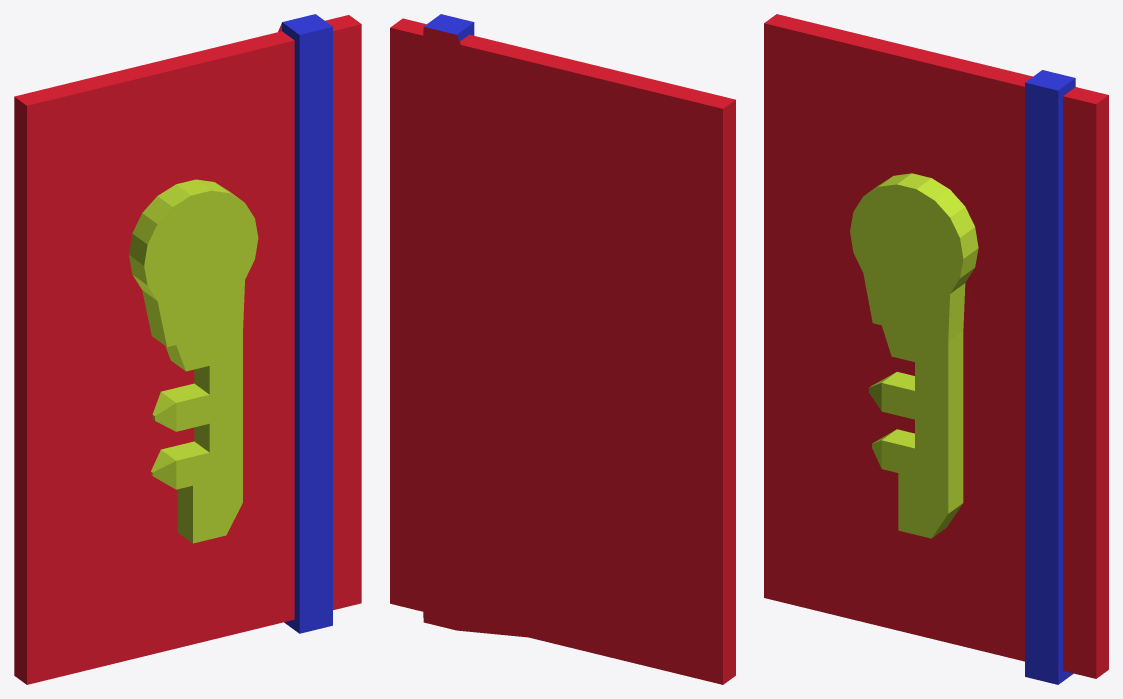
Rendered from Chave.fbx.
The picture shows the model from 3 angles, left to right: view 1: azimuth 30°, elevation 25°; view 2: azimuth 150°, elevation 25°; view 3: azimuth 330°, elevation 25°; orthographic projection.
Parts seen in each view (by area): view 1: Plane; view 2: Plane; view 3: Plane.
Boxes of the visible parts, <box> form: Plane: <box>14,14,361,684</box>; Plane: <box>390,14,735,684</box>; Plane: <box>764,14,1108,684</box>.
Bounding box in the file's own units: 99.55 × 170 × 14.44.
